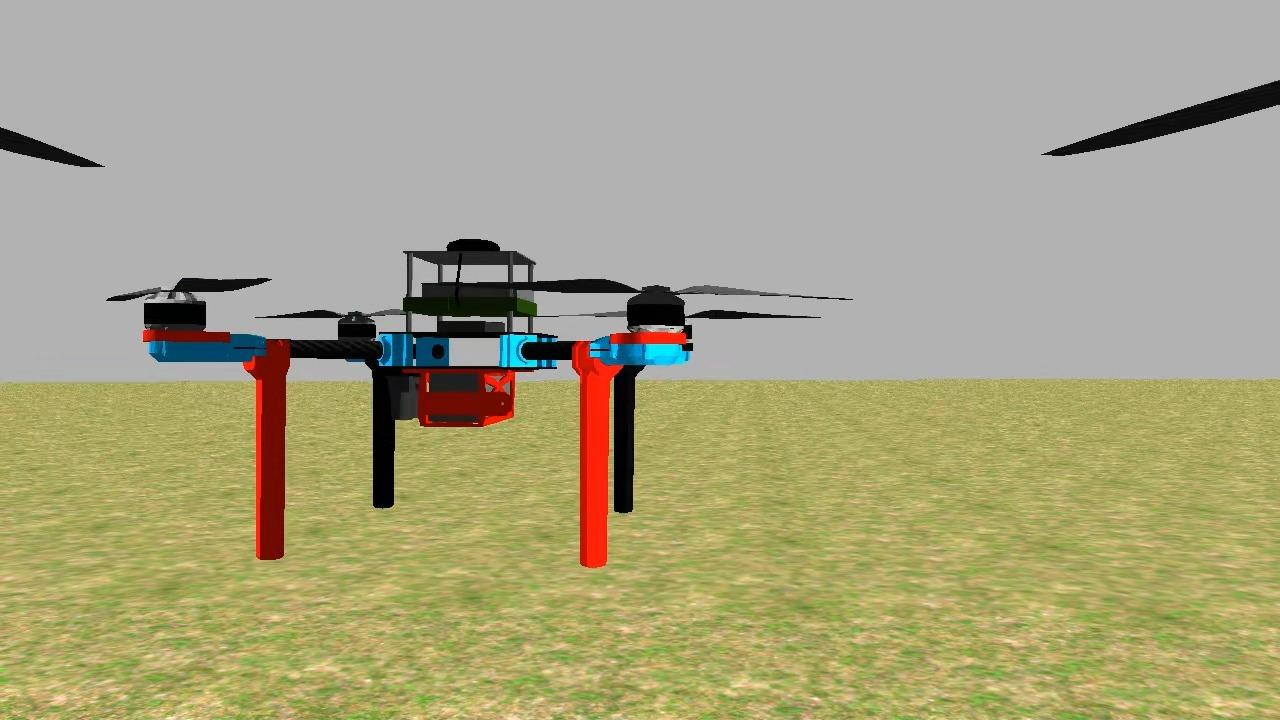UAV: (130, 233, 701, 573)
